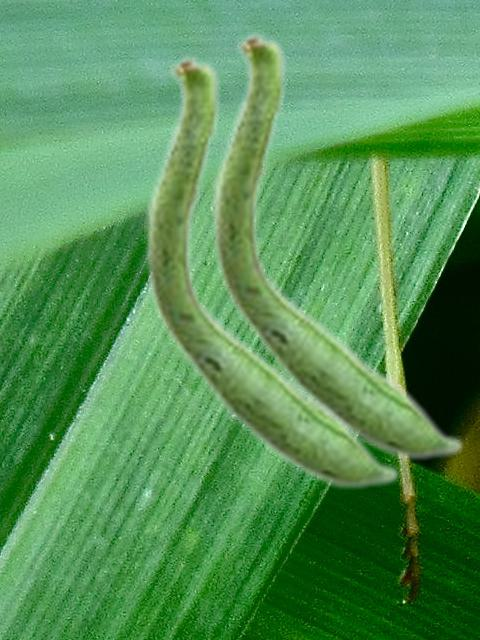french_bean: (144, 51, 400, 490), (211, 28, 464, 461)
